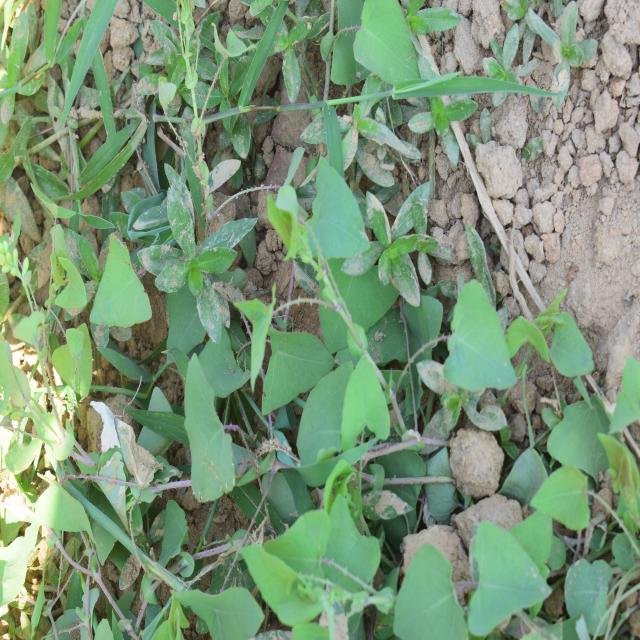Asiatic_Smartweed: (242, 166, 402, 450), (389, 510, 549, 640), (247, 495, 375, 630), (427, 269, 517, 412)
